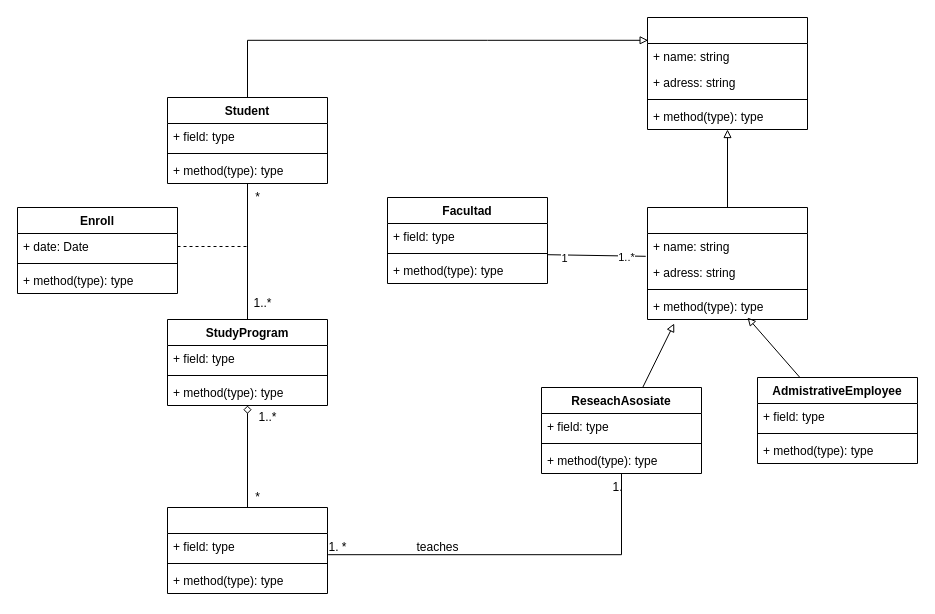
The diagram is 935 pixels wide and 614 high, and some of its shapes have lost their labels. The shapes that lost their labels are listed below. From the top down, each one's box as (x1, y1, x2, y2) in pixels, then its label:
(646, 16, 808, 130): Person
(646, 206, 808, 320): Employee
(166, 506, 328, 594): Curso
